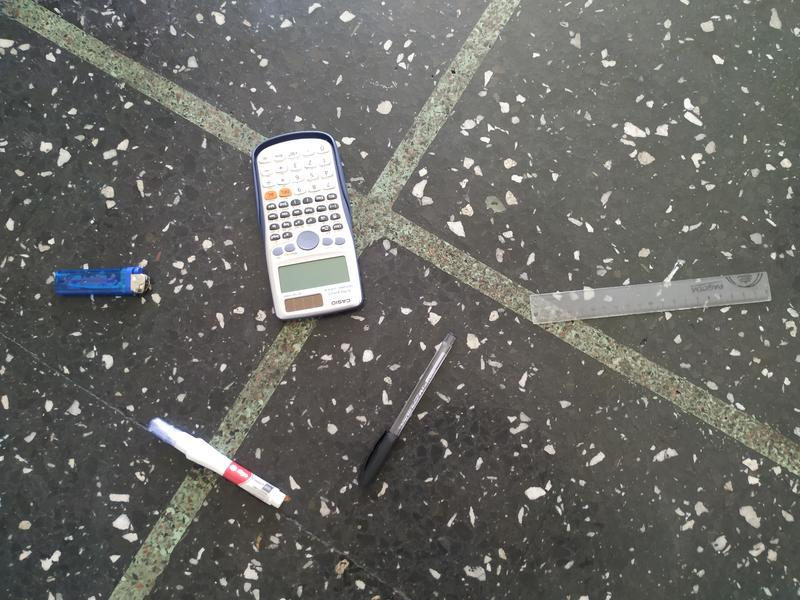calculadora: (248, 130, 368, 324)
corrector: (142, 414, 293, 512)
encendedor: (48, 262, 155, 302)
lapicera: (352, 327, 459, 492)
regla: (524, 267, 772, 329)
